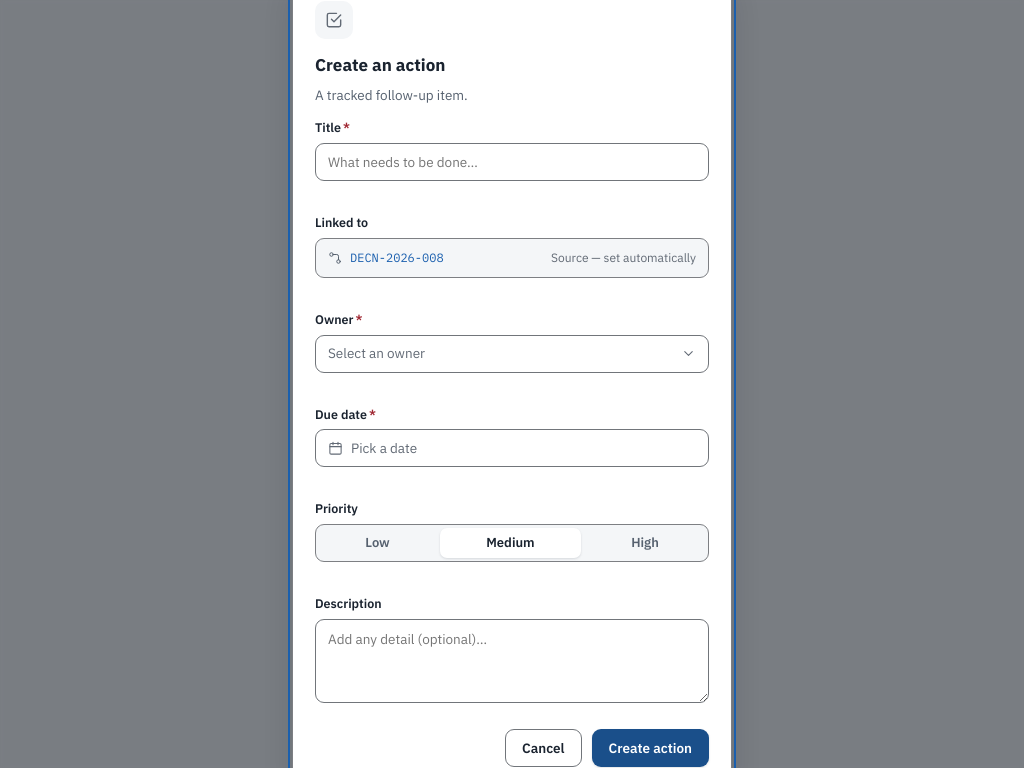
Test: CreateActionDialog › validates title, owner and due date before submitting
Click the button "Create action" at x=650, y=748, box [592, 729, 709, 767]
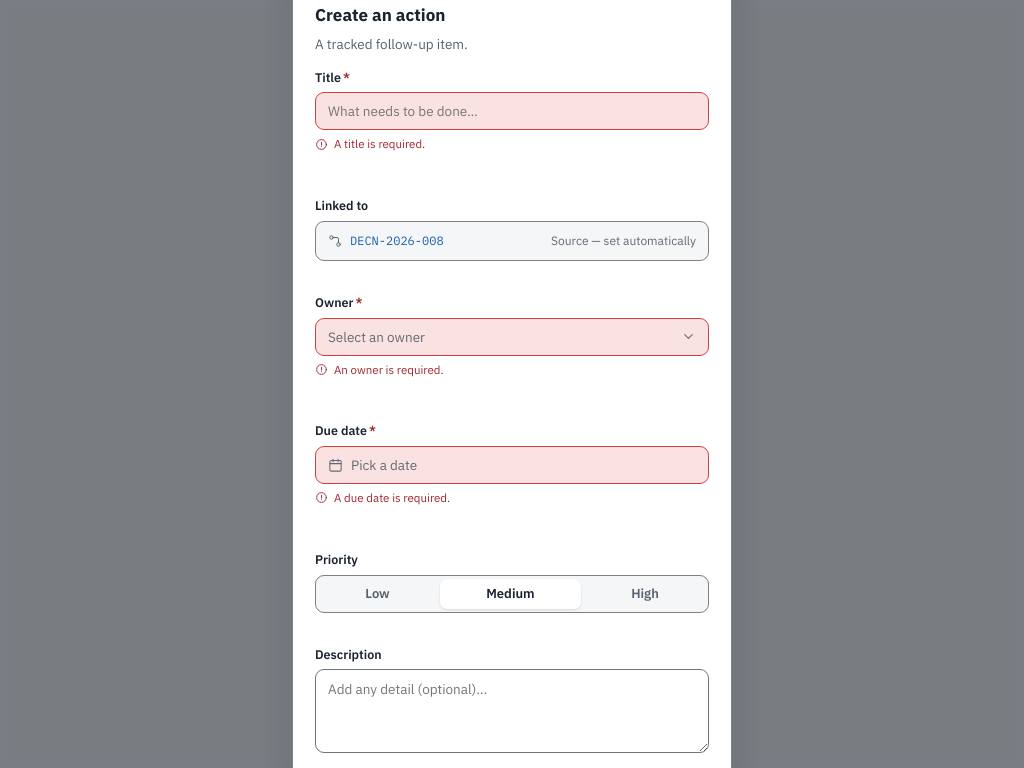
Check: the text "A title is required." is shown, box [315, 136, 425, 151]
Check: the text "An owner is required." is shown, box [315, 362, 444, 377]
Check: the text "A due date is required." is shown, box [315, 490, 450, 505]
